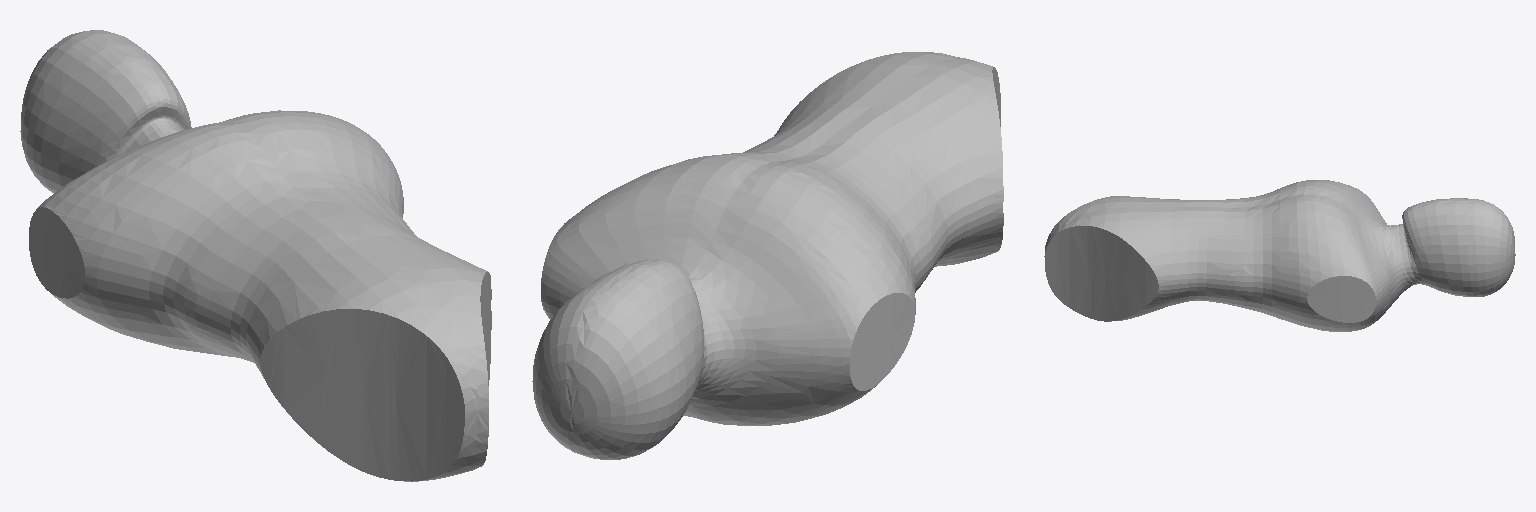
The robot description file, URDF, robot "mri_person":
<robot
  name="mri_person">
  <link
    name="base_link">
    <inertial>
      <origin
        xyz="0.340676492335249 -0.157192803490048 0.10849527729379"
        rpy="0 0 0" />
      <mass
        value="1346.95972552774" />
      <inertia
        ixx="75.3921536170352"
        ixy="0.00196032737986067"
        ixz="0.000265662191137197"
        iyy="15.276192352806"
        iyz="-0.508265413298332"
        izz="80.3681606410775" />
    </inertial>
    <visual>
      <origin
        xyz="0 0 0"
        rpy="0 0 0" />
      <geometry>
        <mesh
          filename="package://mri_person/meshes/base_link.STL" />
      </geometry>
      <material
        name="">
        <color
          rgba="0.749019607843137 0.749019607843137 0.749019607843137 1" />
      </material>
    </visual>
    <collision>
      <origin
        xyz="0 0 0"
        rpy="0 0 0" />
      <geometry>
        <mesh
          filename="package://mri_person/meshes/base_link_collision.STL" />
      </geometry>
    </collision>
  </link>
</robot>

--- What the picture shows (computed from the rendered views, not written in the file) ---
The picture shows the robot from 3 angles, left to right: view 1: azimuth 30°, elevation 25°; view 2: azimuth 150°, elevation 25°; view 3: azimuth 270°, elevation 25°; orthographic projection.
Model mri_person with 1 links and 0 joints (none), rooted at base_link, posed all joints at 0.
Visible links, largest first — view 1: base_link; view 2: base_link; view 3: base_link.
Boxes of the visible links, x1,y1,x2,y2 form: base_link: [20, 30, 491, 481]; base_link: [532, 52, 1003, 459]; base_link: [1044, 180, 1515, 331].
Size in the robot's own frame: 0.4437 by 1.01 by 0.2928 metres.
Meshes: 1 distinct files referenced, 1 mesh visuals loaded (1 binary STL).
